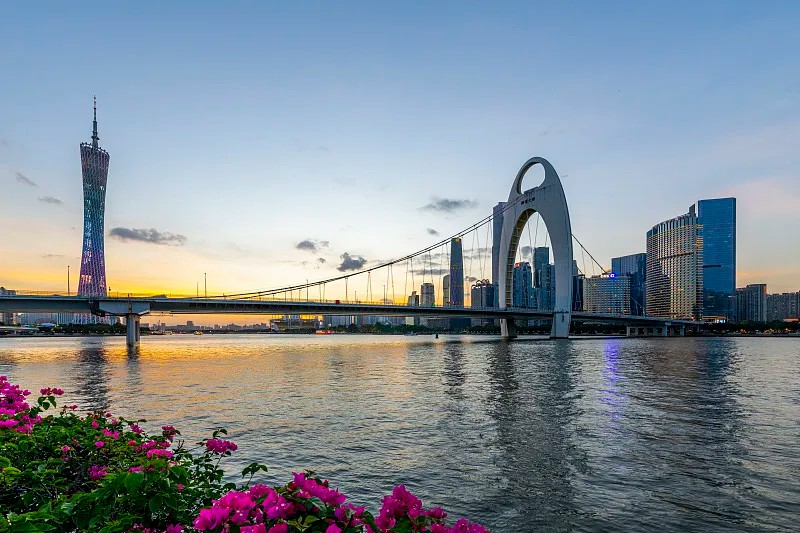Canton: (78, 98, 109, 300)
